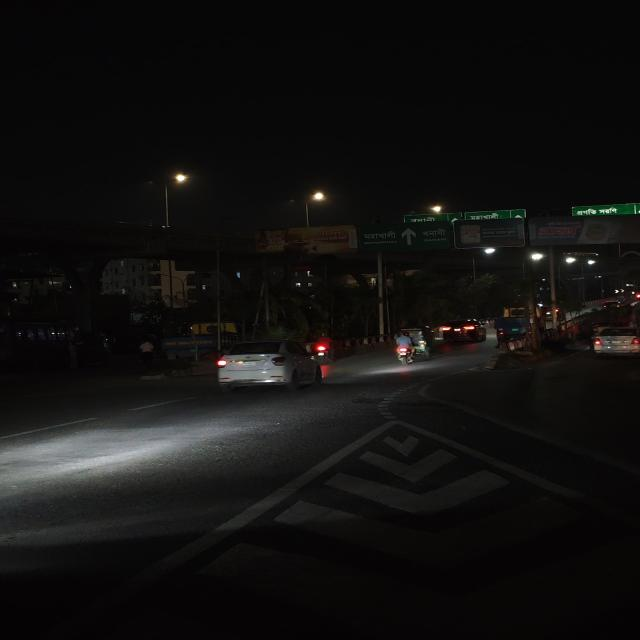car: (202, 337, 316, 390), (590, 321, 640, 364), (443, 317, 484, 343)
cng: (415, 324, 438, 358)
motorcycle: (314, 331, 336, 370), (396, 333, 415, 368)
pickup_van: (492, 310, 530, 340)
